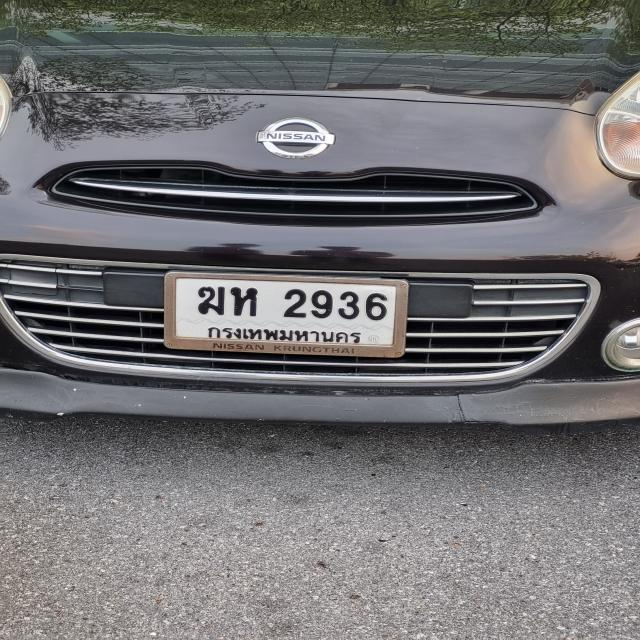license_plate: (161, 265, 408, 362)
